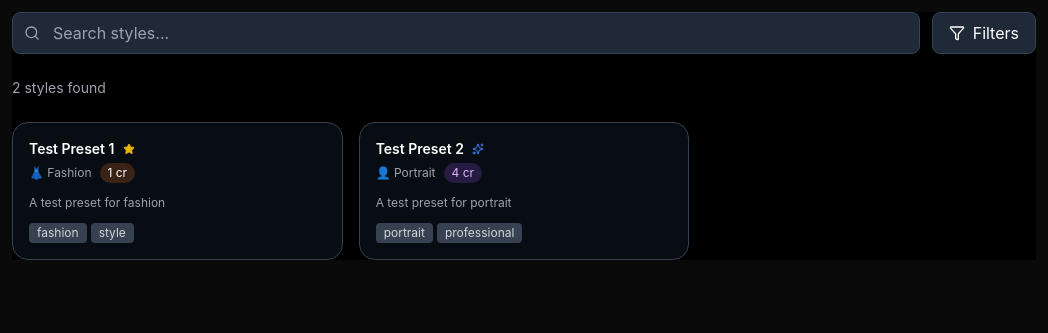
Test: PresetGrid › should toggle filters visibility
Expected: the text "All Styles" is not shown
Click to show filters
Step 1. Click the button "Filters" → click(984, 33), box x1=932 y1=12 x2=1036 y2=54
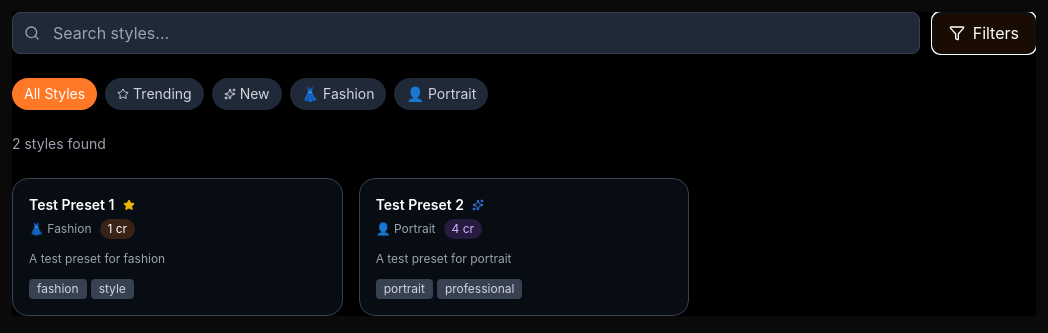
Result: the button "All Styles" is shown at x1=12 y1=78 x2=97 y2=110
Click again to hide filters
Step 2. Click the button "Filters" → click(984, 33), box x1=932 y1=12 x2=1036 y2=54
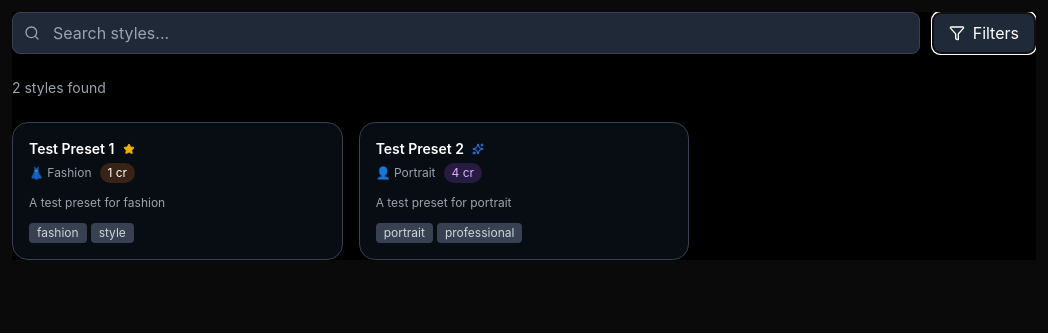
Result: the button "All Styles" is gone
